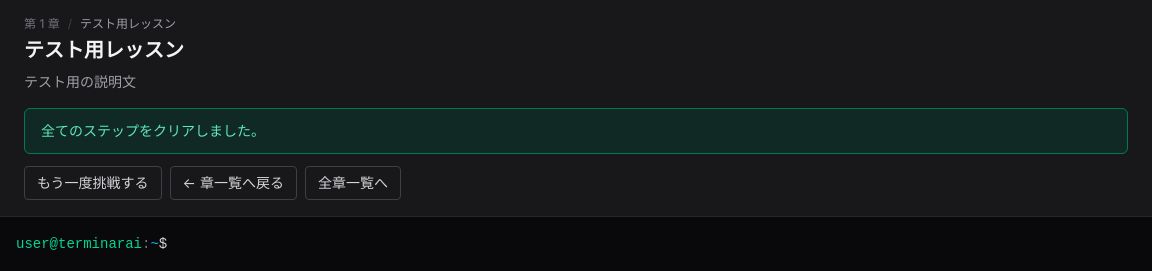
Test: LessonView › 完了後「もう一度挑戦する」でガイド (説明 + ヒント) が復活し、完了記録は保持される
The image size is (1152, 271).
Expected: the text "全てのステップをクリアしました。" is shown, [24,108,1128,154]
Expected: the text "まず pwd を実行" is not shown
Click the button "もう一度挑戦する" at (93, 183), box [24,166,162,200]
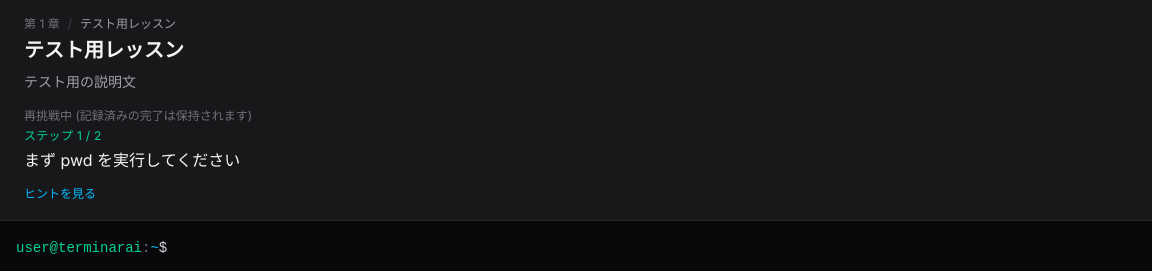
Expected: the text "ステップ 1 / 2" is shown, [24,128,102,143]
Expected: the text "まず pwd を実行してください" is shown, [24,150,240,170]
Expected: the button "ヒントを見る" is shown, [24,186,96,202]
